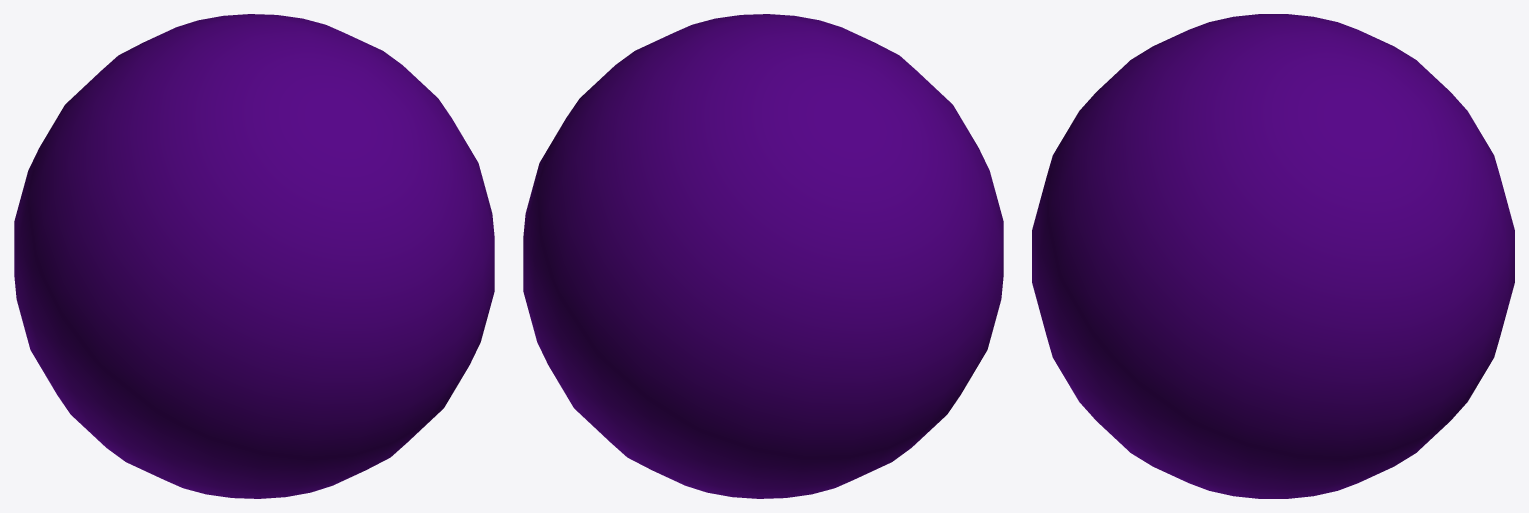
The model's file is Ob_Bowling Ball.FBX.
3 renders of one model, left to right at view 1: azimuth 30°, elevation 25°; view 2: azimuth 150°, elevation 25°; view 3: azimuth 270°, elevation 25°, orthographic.
Parts seen in each view (by area): view 1: Sphere001; view 2: Sphere001; view 3: Sphere001.
Boxes of the visible parts, left/top/right/bottom form: Sphere001: left=14, top=14, right=494, bottom=498; Sphere001: left=523, top=14, right=1003, bottom=498; Sphere001: left=1032, top=14, right=1514, bottom=498.
Size of the model in its own units: 0.4855 by 0.4926 by 0.4891.
